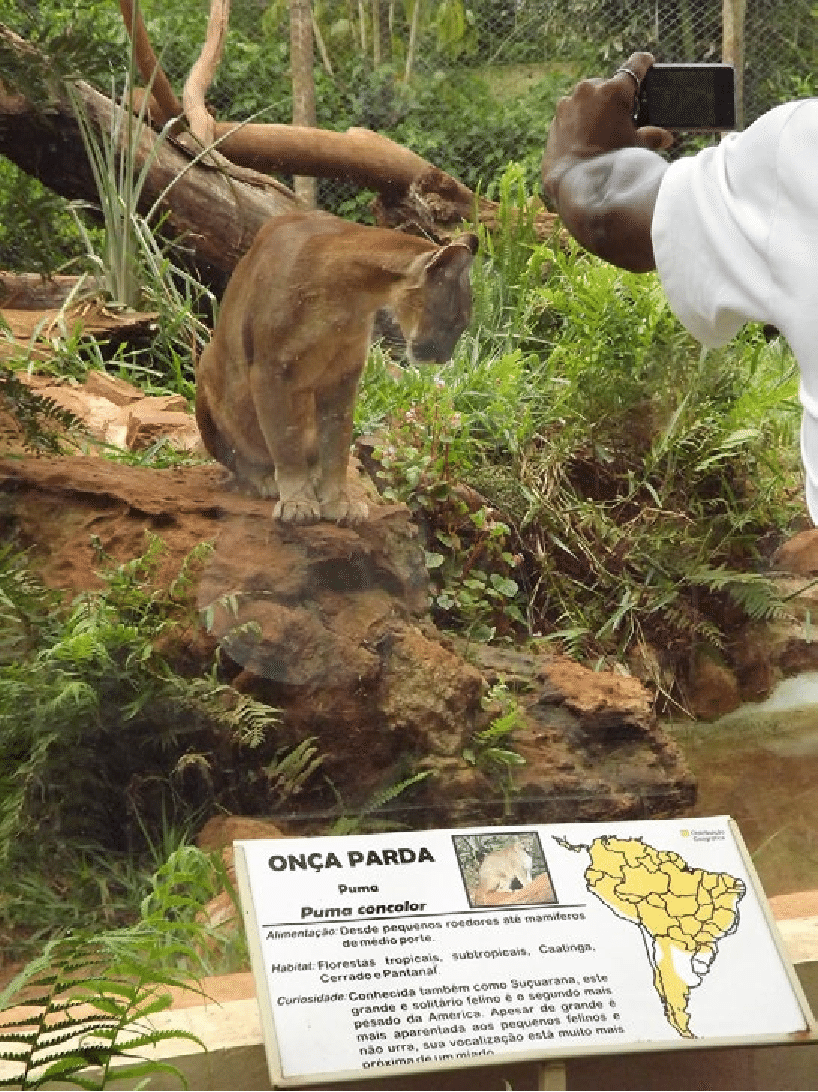OncaParda: (190, 202, 469, 532)
